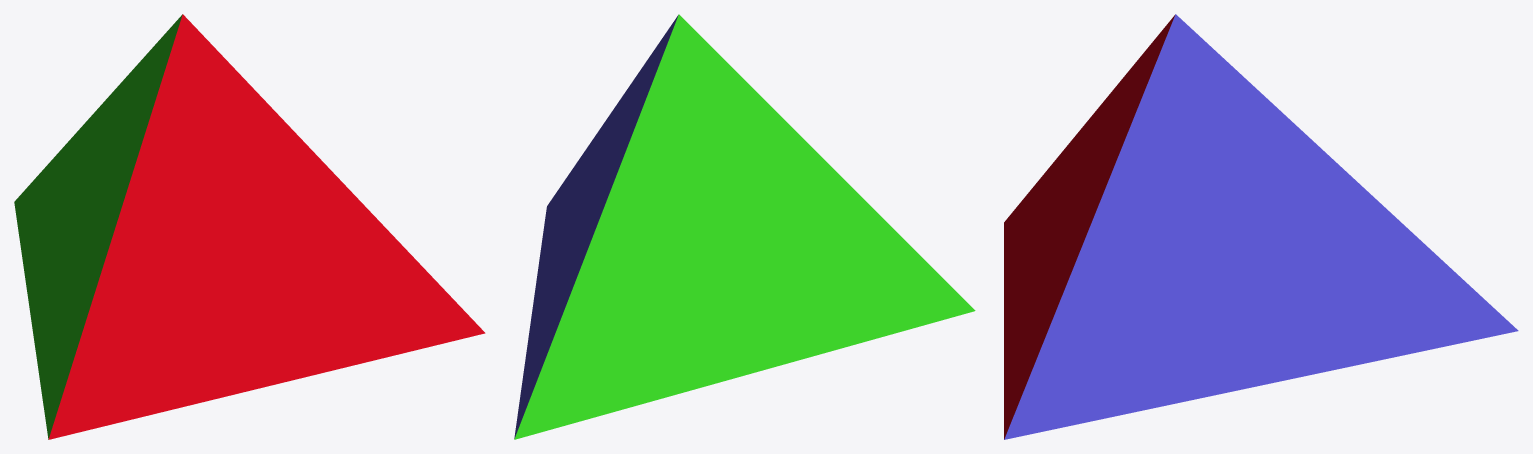
The model's file is PiramideTest1.fbx.
3 renders of one model, left to right at view 1: azimuth 30°, elevation 25°; view 2: azimuth 150°, elevation 25°; view 3: azimuth 270°, elevation 25°, orthographic. The views are drawn at different scales.
Parts seen in each view (by area): view 1: Plane; view 2: Plane; view 3: Plane.
Boxes of the visible parts, x1=… form: Plane: x1=14, y1=14, x2=485, y2=439; Plane: x1=514, y1=14, x2=975, y2=439; Plane: x1=1004, y1=14, x2=1518, y2=439.
Size of the model in its own units: 200 by 136 by 200.
